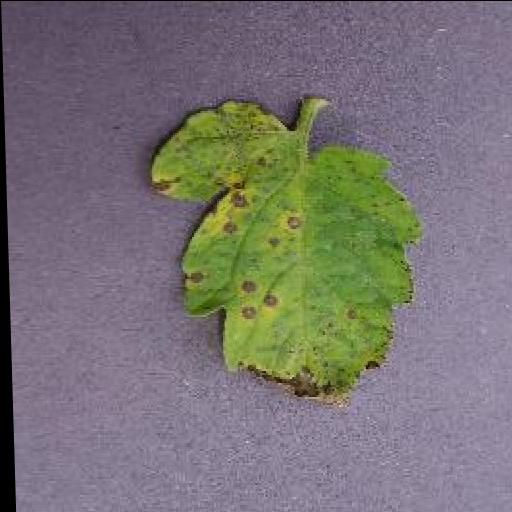Septoria: (146, 96, 423, 406)
